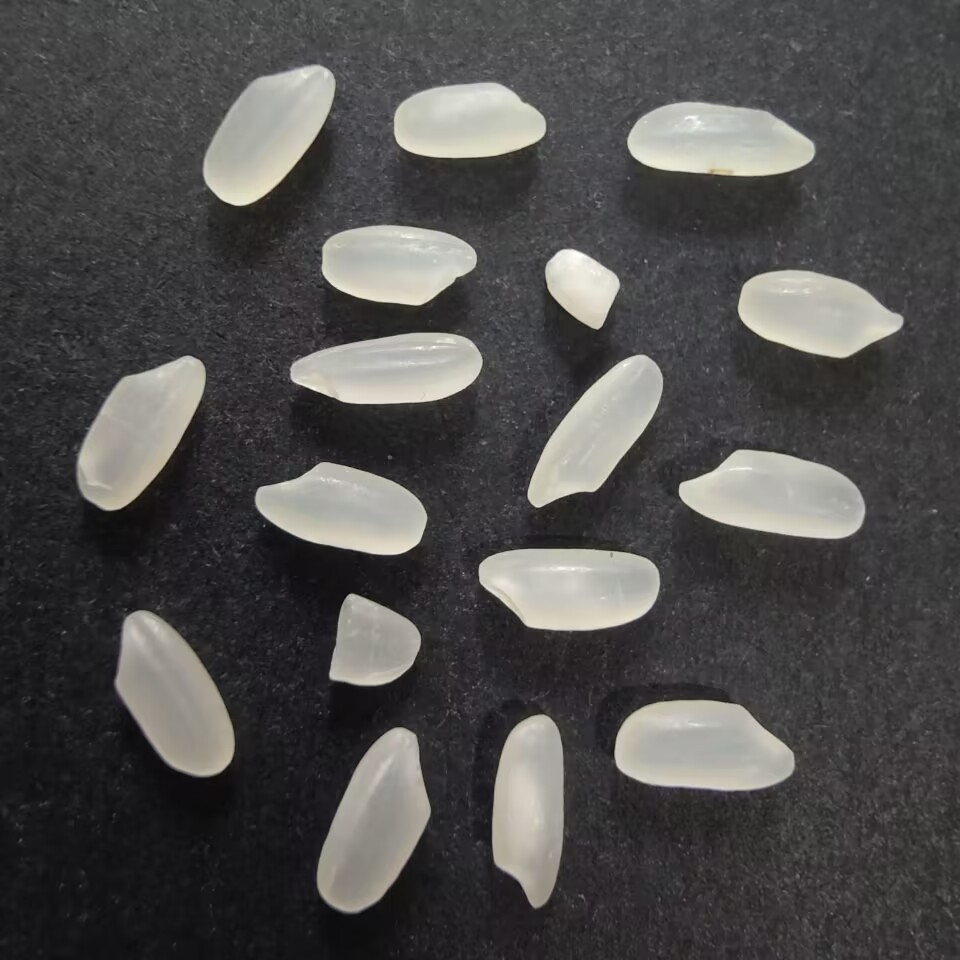broken: (326, 587, 427, 693), (542, 246, 626, 331)
rice: (310, 722, 436, 915), (105, 606, 237, 783), (522, 351, 667, 509), (71, 350, 207, 512), (200, 59, 339, 208), (672, 445, 870, 542), (481, 708, 575, 909), (608, 697, 802, 794), (249, 458, 434, 559), (473, 545, 665, 633), (287, 326, 486, 408), (623, 99, 819, 180), (735, 269, 911, 359), (317, 220, 482, 310), (387, 79, 552, 164)
